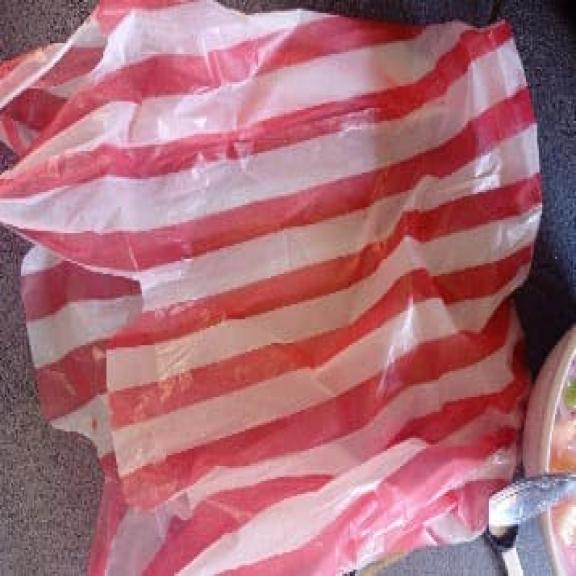Plastik: (0, 2, 541, 573)
